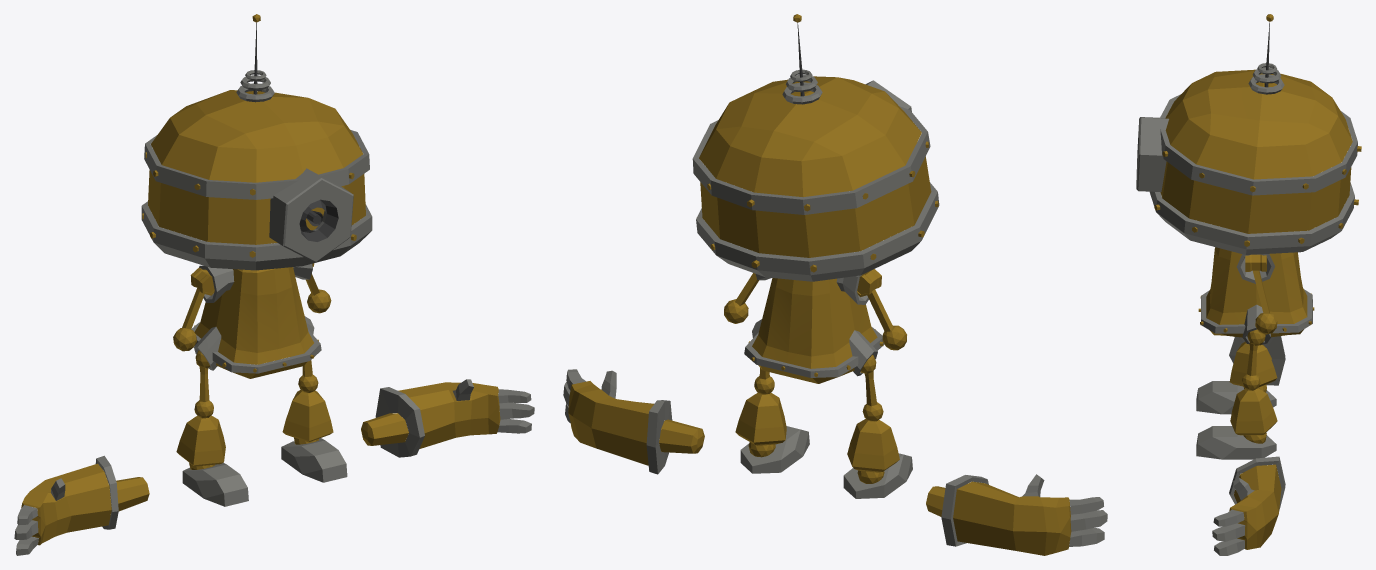
File: typo_fbx_test.gltf
3 views of the same model, side by side, from view 1: azimuth 30°, elevation 25°; view 2: azimuth 150°, elevation 25°; view 3: azimuth 270°, elevation 25° (orthographic). The views are drawn at different scales.
Visible parts, largest first — view 1: Head, Torso, Hand.L, Hand.R, Cylinder, LowerLeg.R, Foot.L, Foot.R, LowerLeg.L, Torus, Arm.R; view 2: Head, Torso, Hand.R, Hand.L, LowerLeg.R, LowerLeg.L, Foot.L, Foot.R, Torus, Arm.R, Arm.L; view 3: Head, Torso, Hand.L, Cylinder, Foot.L, LowerLeg.L, Foot.R, LowerLeg.R, Torus, Hand.R, Arm.L, Leg.L (+1 smaller).
Part boxes in pixels (bbox=[...]): Head: bbox=[141, 90, 372, 270]; Torso: bbox=[191, 264, 321, 378]; Hand.L: bbox=[361, 379, 534, 457]; Hand.R: bbox=[14, 455, 149, 555]; Cylinder: bbox=[269, 168, 353, 262]; LowerLeg.R: bbox=[176, 415, 225, 469]; Foot.L: bbox=[281, 438, 347, 482]; Foot.R: bbox=[182, 463, 248, 506]; LowerLeg.L: bbox=[282, 390, 333, 444]; Torus: bbox=[236, 14, 274, 102]; Arm.R: bbox=[173, 288, 204, 351]; Head: bbox=[692, 76, 939, 281]; Torso: bbox=[744, 274, 884, 383]; Hand.R: bbox=[926, 474, 1107, 555]; Hand.L: bbox=[563, 369, 704, 474]; LowerLeg.R: bbox=[847, 419, 899, 483]; LowerLeg.L: bbox=[735, 393, 786, 457]; Foot.L: bbox=[740, 426, 809, 473]; Foot.R: bbox=[843, 453, 912, 498]; Torus: bbox=[782, 14, 822, 104]; Arm.R: bbox=[867, 289, 906, 350]; Arm.L: bbox=[724, 273, 758, 323]; Head: bbox=[1149, 69, 1361, 254]; Torso: bbox=[1198, 247, 1314, 345]; Hand.L: bbox=[1212, 456, 1285, 555]; Cylinder: bbox=[1136, 117, 1168, 191]; Foot.L: bbox=[1196, 426, 1276, 459]; LowerLeg.L: bbox=[1230, 388, 1277, 443]; Foot.R: bbox=[1196, 381, 1276, 414]; LowerLeg.R: bbox=[1229, 341, 1277, 392]; Torus: bbox=[1248, 14, 1284, 94]; Hand.R: bbox=[1229, 336, 1285, 385]; Arm.L: bbox=[1253, 270, 1277, 334]; Leg.L: bbox=[1241, 342, 1260, 390].
Size of the model in its own units: 662 by 575 by 266.
